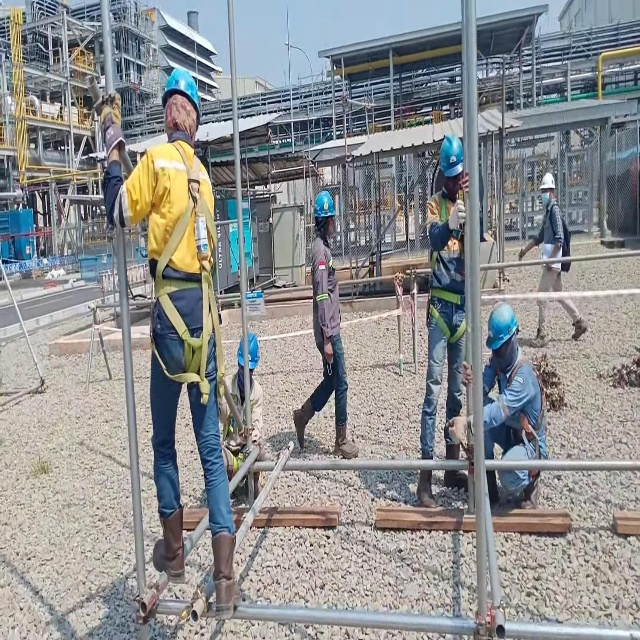Arnes_seguridad: (149, 137, 228, 406), (426, 187, 470, 345), (498, 356, 547, 496)
